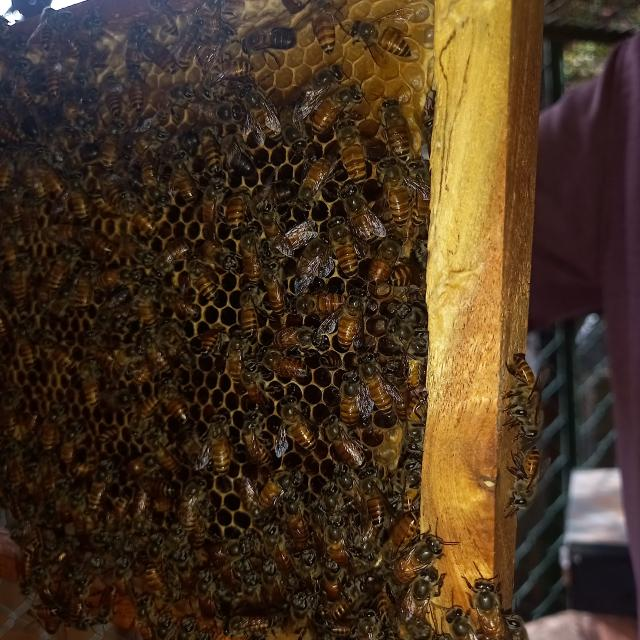honeybee: (348, 340, 403, 423), (349, 7, 421, 68), (270, 391, 322, 457), (315, 288, 369, 350), (461, 569, 506, 640), (194, 412, 244, 474), (320, 414, 370, 474), (324, 214, 369, 280), (290, 65, 345, 118), (230, 85, 282, 141), (338, 185, 387, 244), (507, 444, 545, 520), (392, 531, 445, 585), (284, 232, 333, 290), (375, 156, 412, 228), (402, 566, 446, 626), (312, 80, 362, 132), (255, 466, 302, 519), (333, 118, 371, 182), (336, 571, 384, 621), (506, 352, 541, 418), (264, 522, 296, 594), (387, 455, 425, 515), (305, 0, 347, 54), (382, 509, 423, 563), (189, 95, 252, 129), (298, 154, 339, 205), (279, 488, 313, 549), (379, 95, 413, 156), (229, 606, 289, 640), (286, 588, 325, 640), (27, 7, 70, 52), (335, 370, 368, 428), (322, 512, 349, 582), (262, 257, 292, 319), (145, 540, 174, 604), (241, 407, 272, 466), (202, 22, 234, 78), (250, 182, 301, 217), (375, 585, 407, 640), (218, 132, 255, 179), (260, 212, 296, 260), (147, 79, 199, 112), (320, 558, 345, 626), (119, 198, 160, 239), (367, 233, 397, 289), (358, 471, 387, 528), (229, 543, 262, 593), (288, 291, 349, 318), (408, 159, 432, 226), (175, 480, 206, 531), (439, 600, 478, 640), (142, 40, 180, 80), (153, 236, 188, 279), (161, 322, 193, 369), (61, 175, 94, 220), (242, 26, 295, 54), (231, 71, 272, 107), (257, 350, 310, 377), (116, 556, 144, 607), (206, 58, 257, 86), (176, 24, 204, 75), (405, 335, 431, 389), (238, 228, 264, 281), (184, 262, 218, 302), (241, 358, 268, 408), (225, 184, 253, 232), (316, 481, 346, 525), (34, 153, 62, 200), (44, 248, 73, 293), (79, 228, 117, 262), (518, 393, 546, 439), (126, 66, 154, 112), (132, 284, 160, 330), (238, 280, 259, 341), (172, 160, 201, 204), (311, 610, 353, 640), (398, 292, 429, 332), (129, 130, 170, 160), (275, 326, 324, 351), (78, 5, 102, 56), (128, 21, 152, 72), (404, 616, 453, 640), (233, 476, 261, 518), (68, 490, 94, 535), (98, 122, 122, 170), (201, 238, 237, 270), (42, 52, 65, 102), (348, 609, 385, 640), (196, 570, 218, 622), (17, 539, 37, 596), (390, 254, 422, 289), (13, 248, 33, 304), (161, 288, 196, 320), (107, 344, 144, 374), (135, 595, 160, 639), (226, 336, 248, 386), (204, 176, 226, 226), (199, 130, 224, 174), (257, 557, 281, 602), (170, 542, 194, 587), (102, 74, 126, 118), (407, 385, 432, 427), (64, 102, 96, 134), (93, 268, 137, 291), (149, 0, 177, 36), (298, 545, 322, 586), (154, 445, 183, 477), (87, 466, 107, 512), (6, 74, 32, 108), (74, 265, 94, 309), (246, 571, 264, 619), (100, 172, 126, 205), (110, 485, 133, 522), (196, 329, 224, 359), (66, 579, 85, 622), (128, 102, 158, 129), (96, 585, 118, 621), (145, 346, 172, 375), (168, 398, 195, 426), (504, 610, 529, 640), (17, 330, 36, 369), (79, 374, 101, 407), (55, 348, 82, 374), (192, 513, 208, 556), (41, 410, 58, 450), (61, 429, 78, 465), (0, 150, 14, 193), (387, 323, 412, 347), (141, 392, 164, 418), (3, 401, 20, 435), (29, 602, 61, 620), (44, 613, 68, 637), (140, 160, 162, 186), (158, 613, 178, 640), (127, 459, 154, 479), (132, 366, 154, 387), (151, 480, 176, 497), (22, 409, 36, 438), (97, 425, 118, 444), (151, 498, 175, 514), (179, 615, 193, 640), (320, 353, 340, 370), (194, 631, 215, 640)
